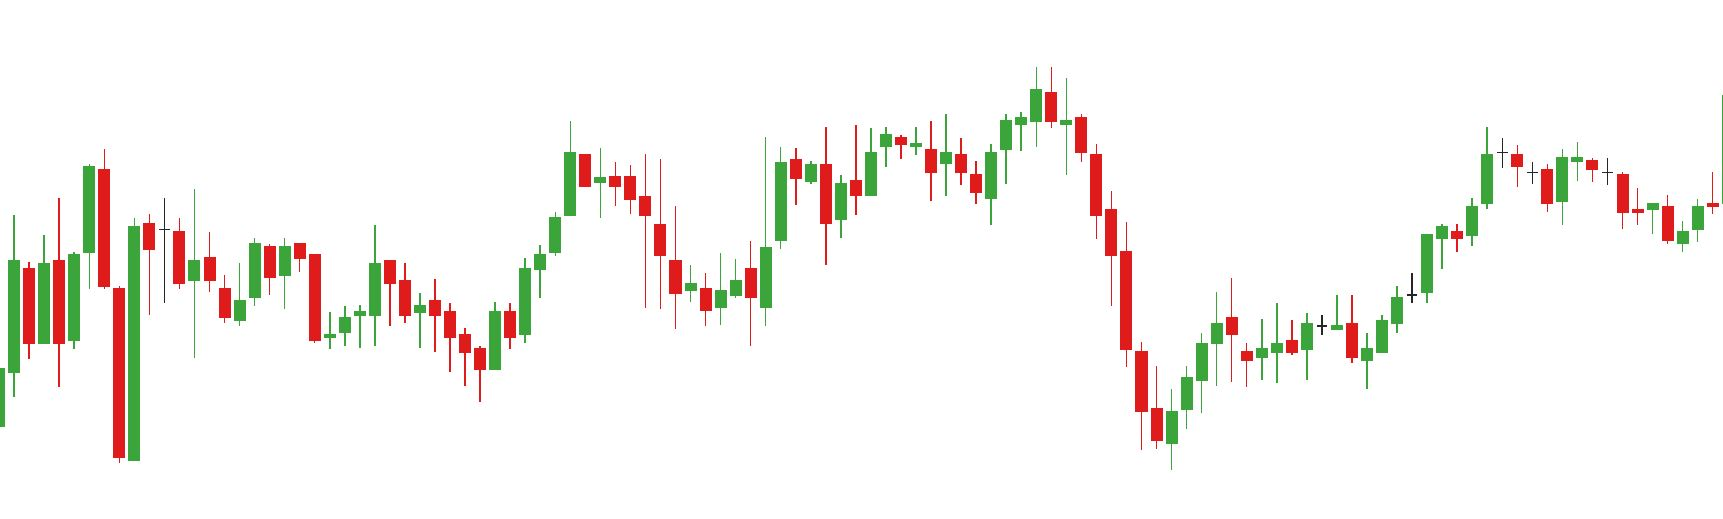buy: (1296, 314, 1375, 393)
sell: (940, 64, 1057, 189)
